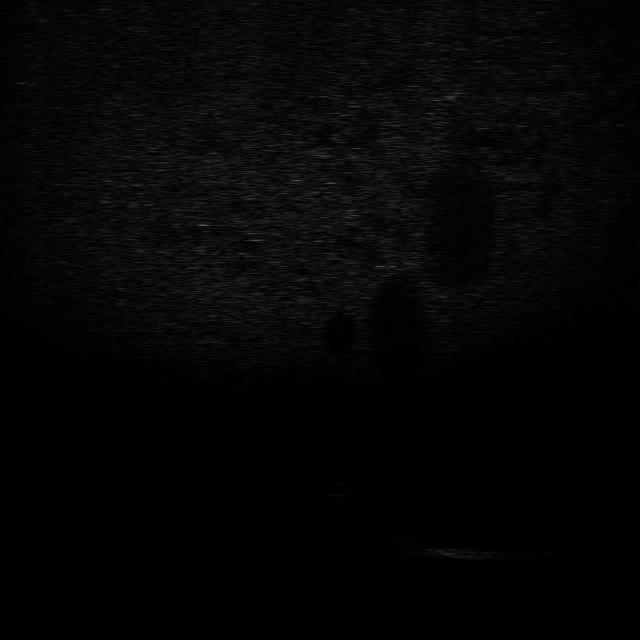ball: (320, 477, 352, 500)
metal bucket: (426, 540, 506, 562)
tyre: (372, 514, 430, 546)
